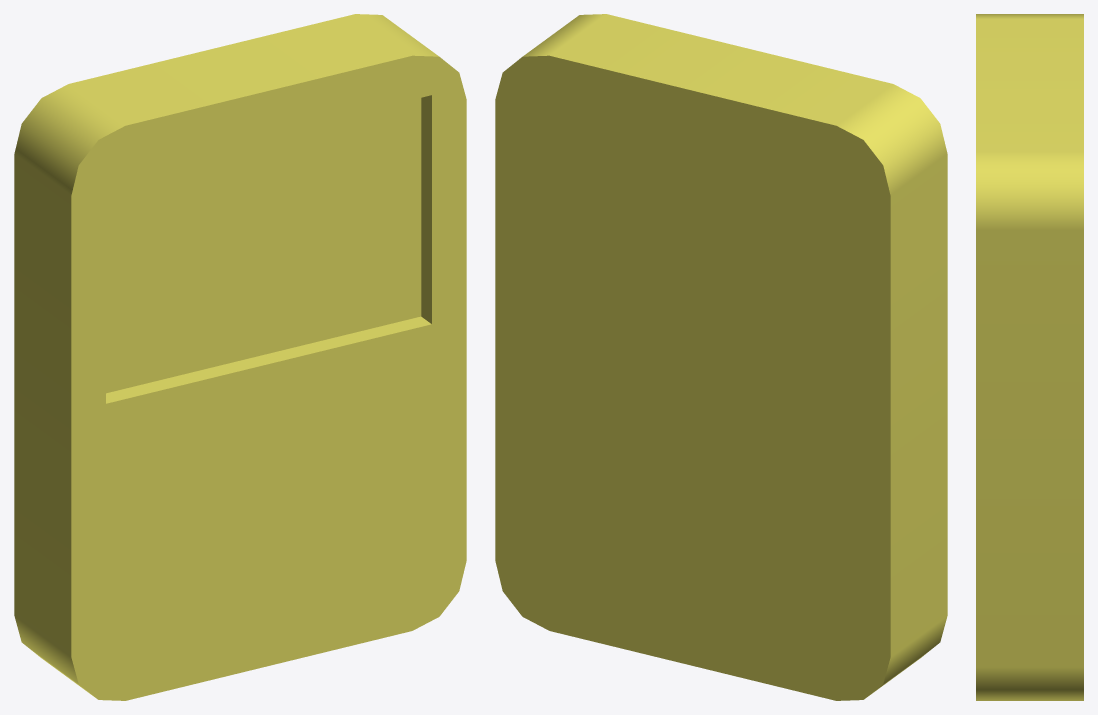
File: CardPickup.fbx
The picture shows the model from 3 angles, left to right: view 1: azimuth 30°, elevation 25°; view 2: azimuth 150°, elevation 25°; view 3: azimuth 270°, elevation 25°; orthographic projection. The views are drawn at different scales.
Visible parts, largest first — view 1: CardPickup; view 2: CardPickup; view 3: CardPickup.
Part boxes in pixels (x1,y1,x2,y2): CardPickup: (14,14,466,700); CardPickup: (495,14,947,700); CardPickup: (976,14,1083,700).
Size of the model in its own units: 100 by 139 by 25.
